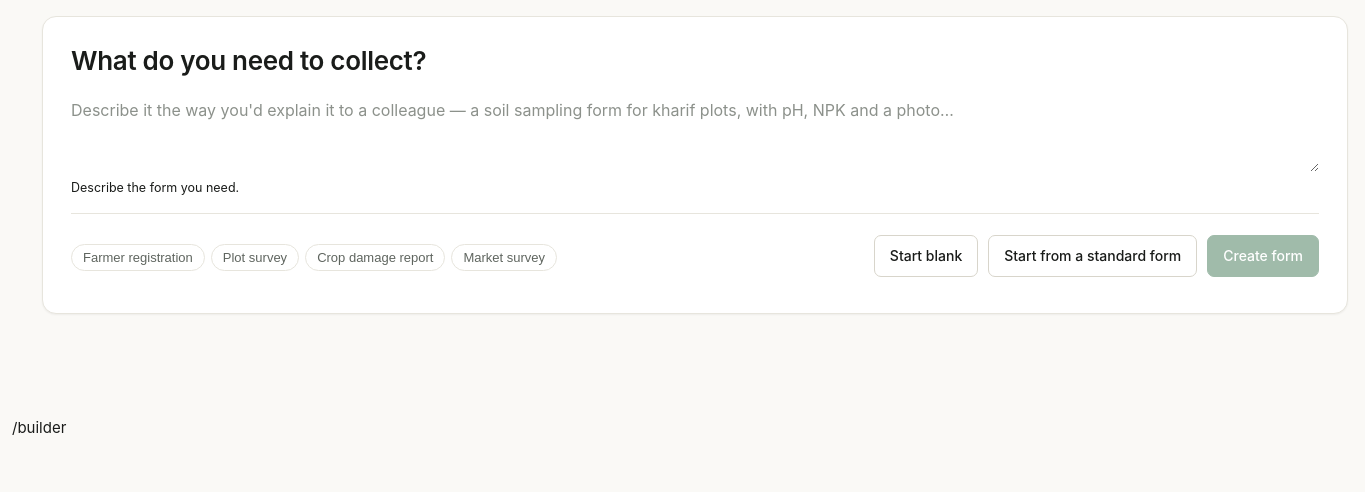
Test: starting a form without a prompt › shows the server rejection when prompt generation fails
The width and height of the screenshot is (1365, 492).
Type "Create a farmer registration form" into the text box with placeholder "Describe it the way you'd explain it".
click(695, 134); type("Create a farmer registration form")  # box [71,98,1319,172]
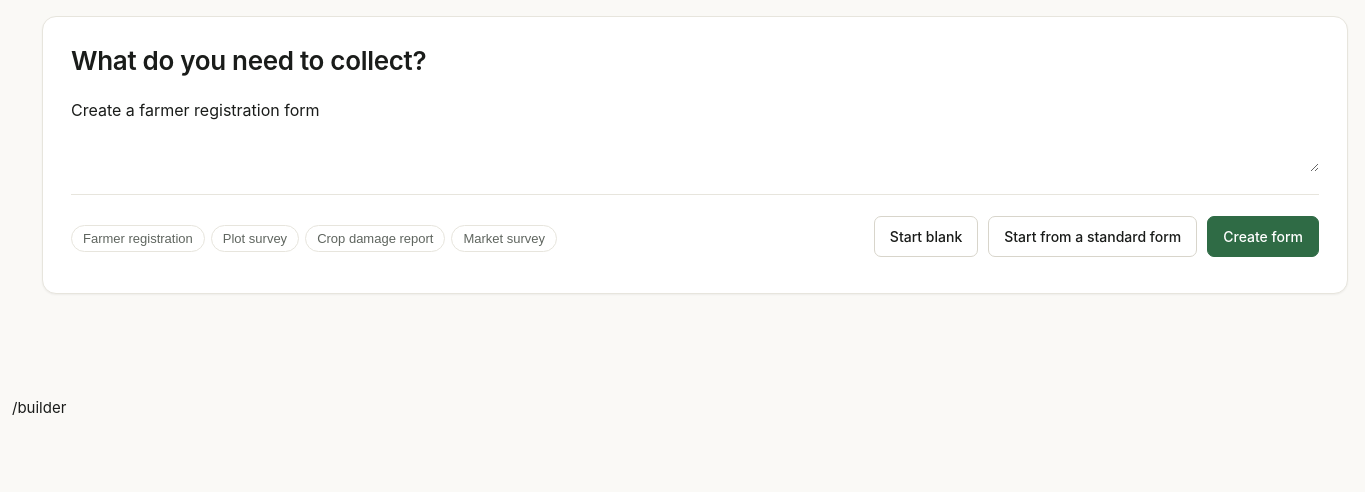
Click the button "Create form".
click(1263, 237)  # box [1207,216,1319,258]
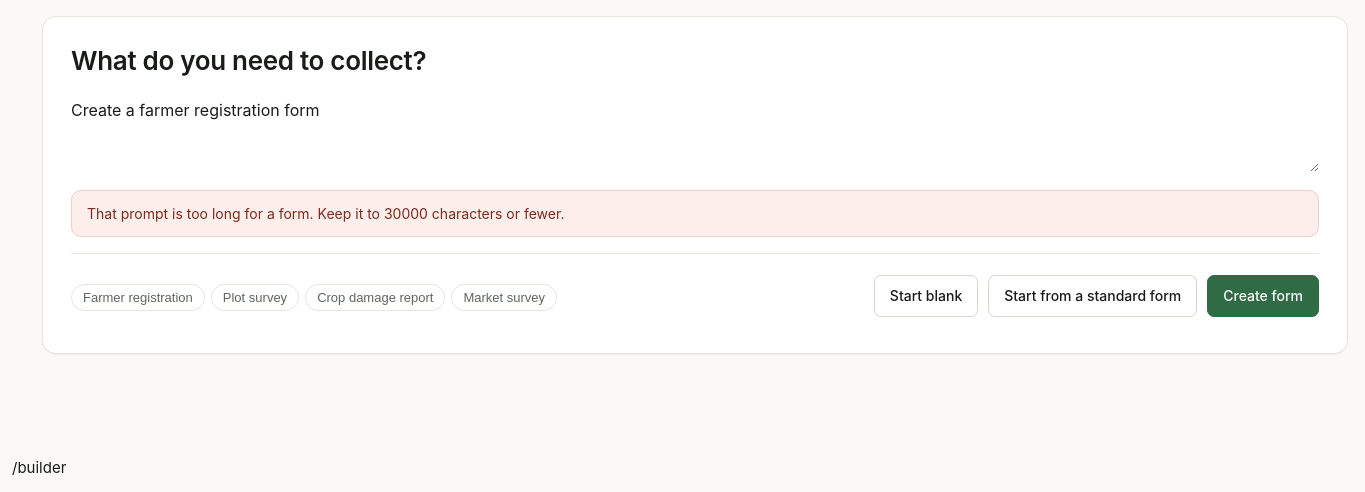
Check: the message reads "That prompt is too long for a form. Keep it to 30000 characters or fewer.", box [87,205,564,222]
